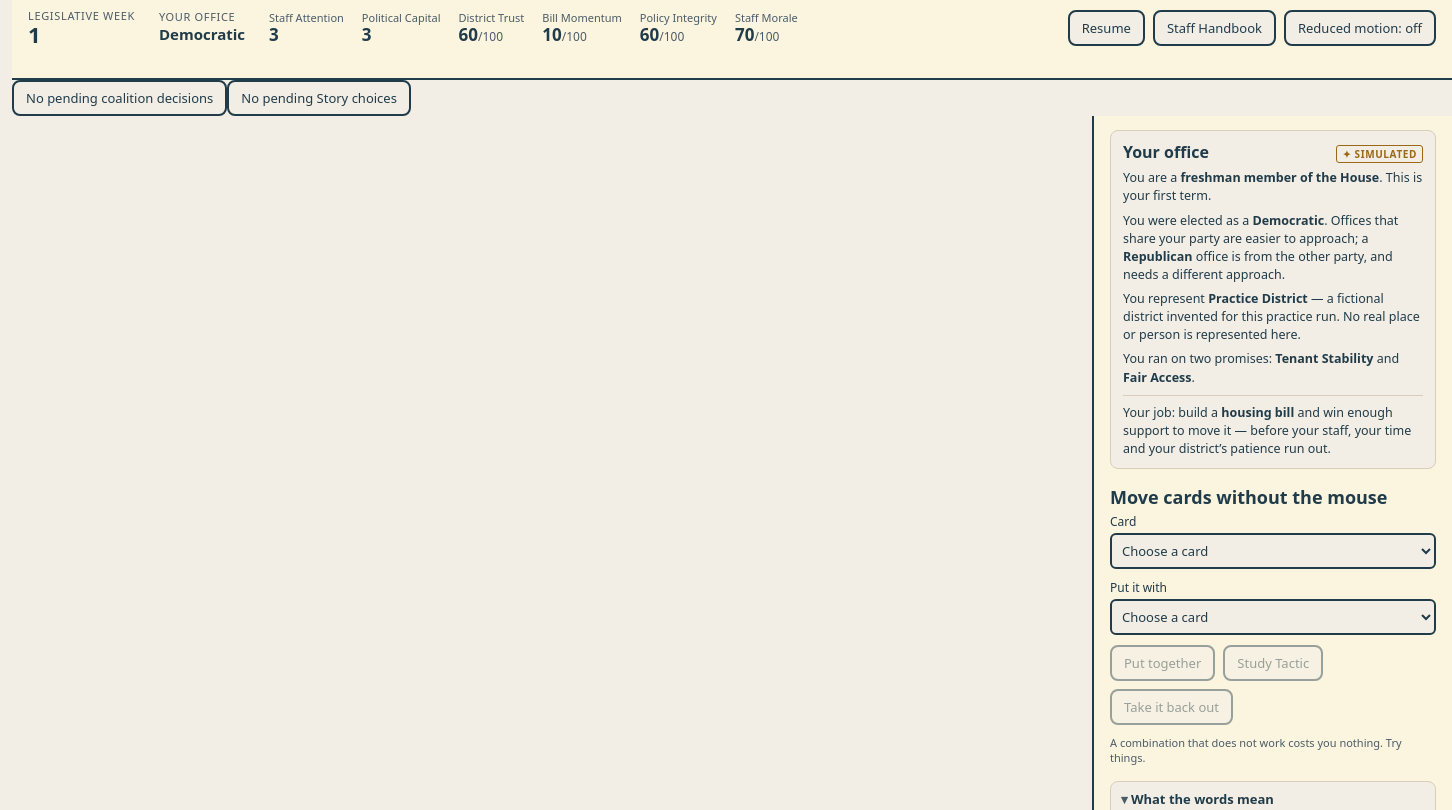
Test: GameShell › opens the Staff Handbook from the HUD
Click the button with test id "hud-handbook".
click(1214, 28)  # box x1=1153 y1=10 x2=1276 y2=46
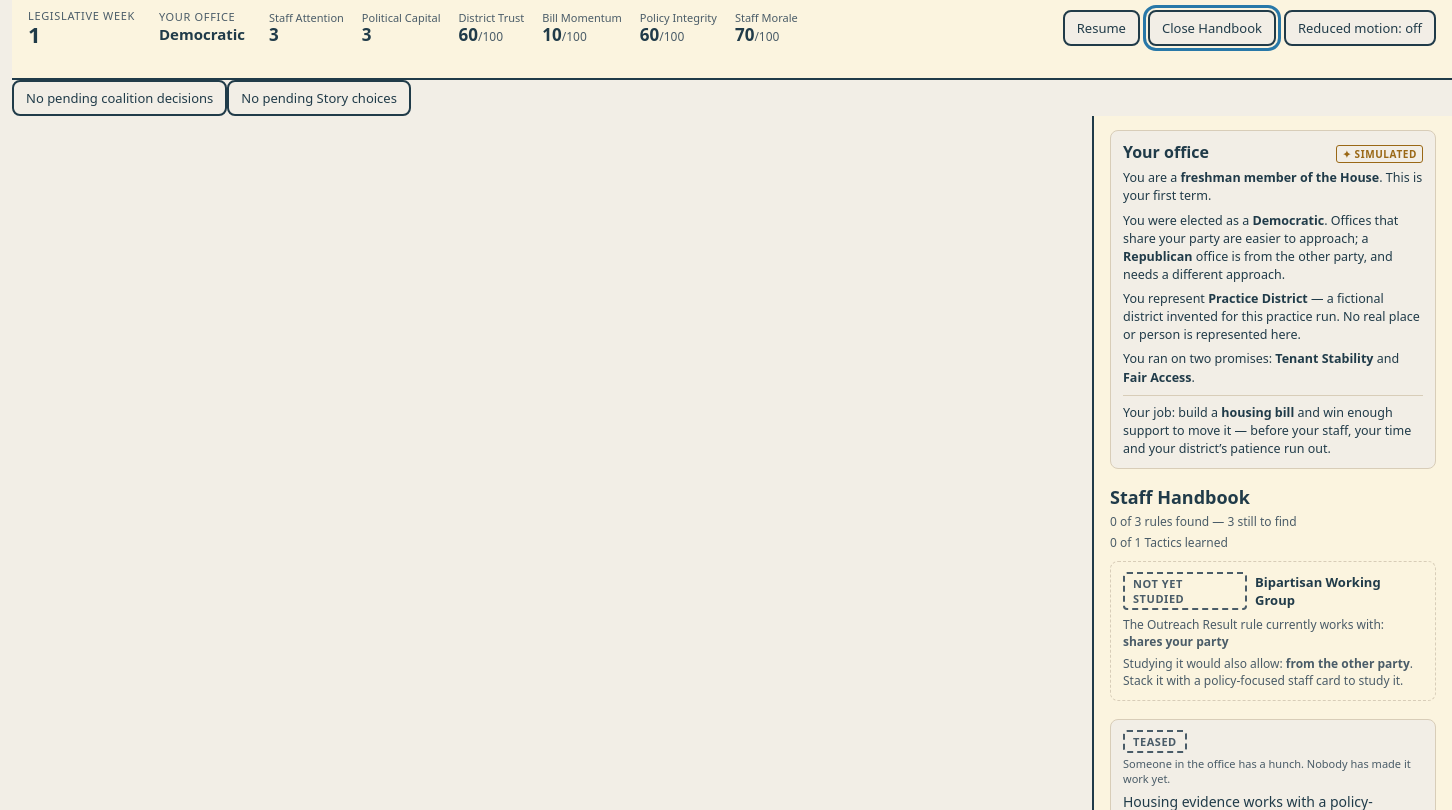
Expected: the text with test id "handbook-progress" shows "0 of 3 rules found", x1=1110 y1=513 x2=1297 y2=530
